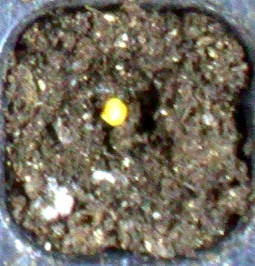pepper seed: (35, 34, 164, 162)
